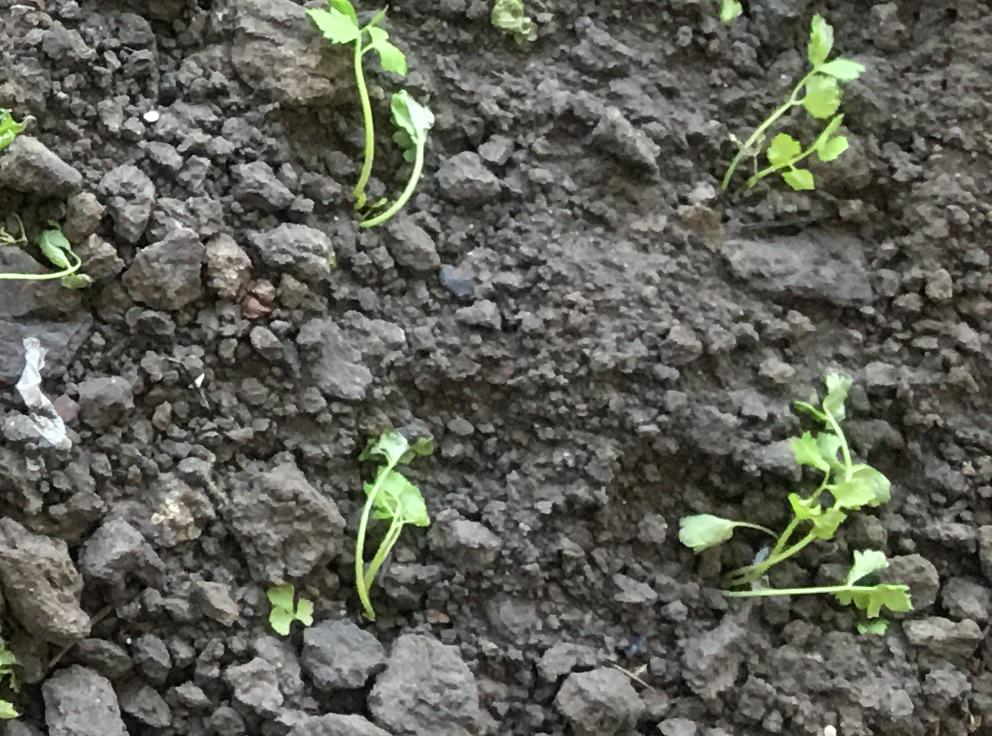block: (217, 459, 341, 585), (225, 1, 359, 106), (1, 515, 92, 654), (369, 630, 480, 736), (118, 228, 214, 310), (553, 665, 640, 734)
